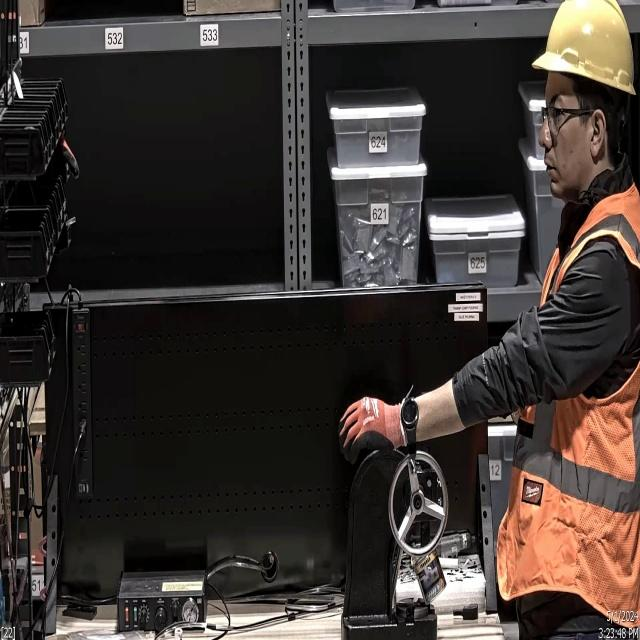gloves: (335, 396, 408, 466)
